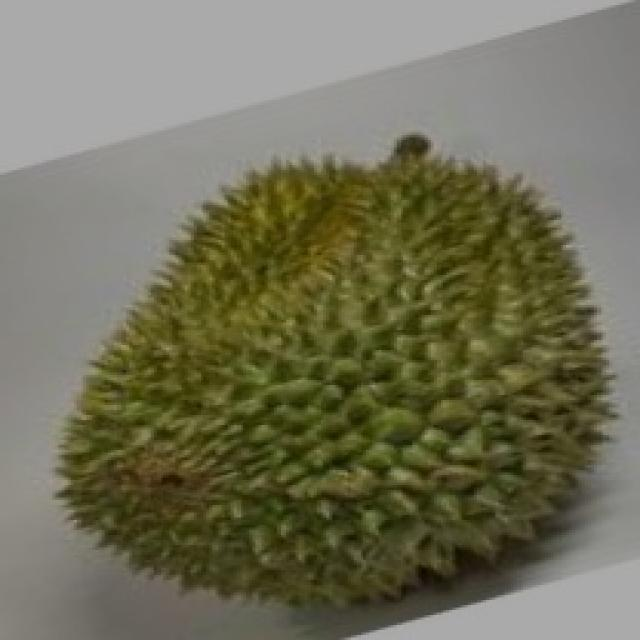fruit: (280, 200, 640, 632), (6, 265, 385, 640)
